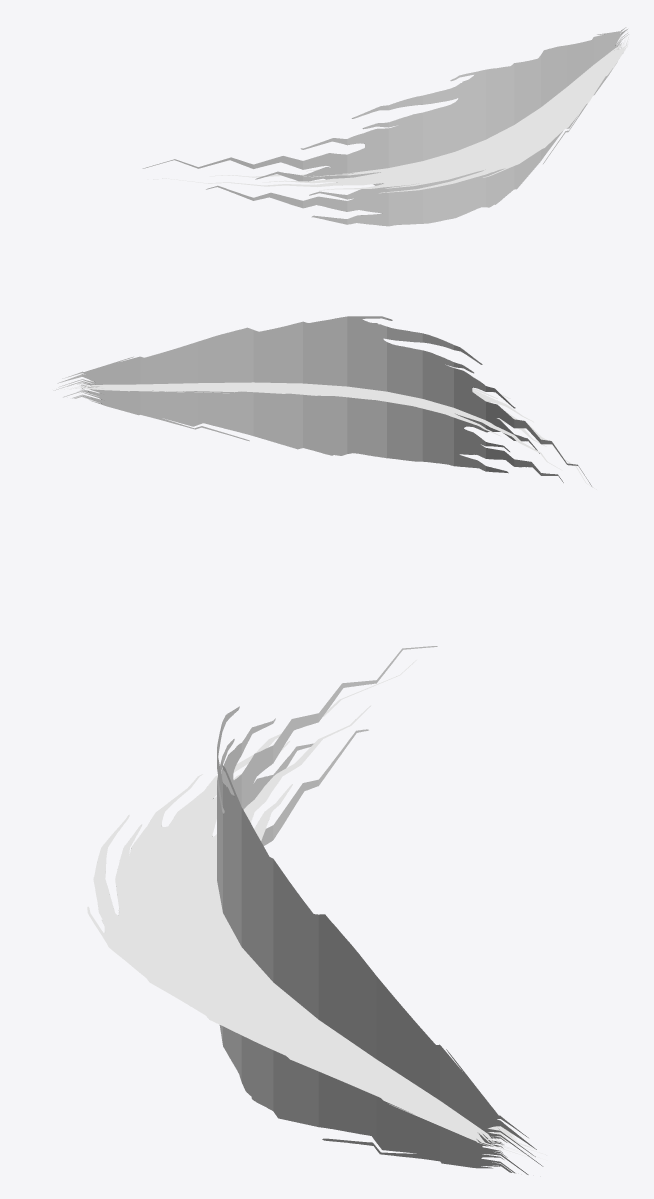
The model's file is slash2.obj.
3 renders of one model, top to bottom at view 1: azimuth 30°, elevation 25°; view 2: azimuth 150°, elevation 25°; view 3: azimuth 270°, elevation 25°, orthographic. The views are drawn at different scales.
Visible parts, largest first — view 1: 平面.001; view 2: 平面.001; view 3: 平面.001.
Boxes of the visible parts, x1,y1,x2,y2 form: 平面.001: (142,27,628,226); 平面.001: (53,316,596,489); 平面.001: (87,646,544,1174).
Bounding box in the file's own units: 5.93 × 1.81 × 2.28.
1 material, 1 textured.
